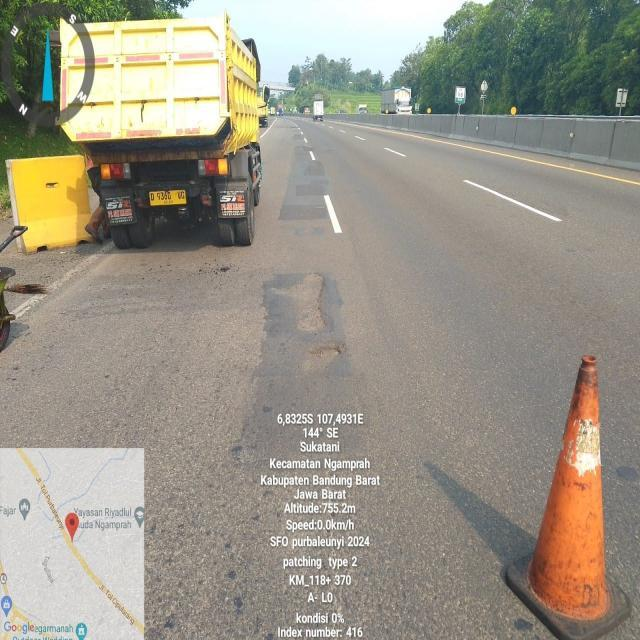Buraco: (267, 270, 335, 336), (300, 338, 349, 370), (1, 281, 51, 296)
